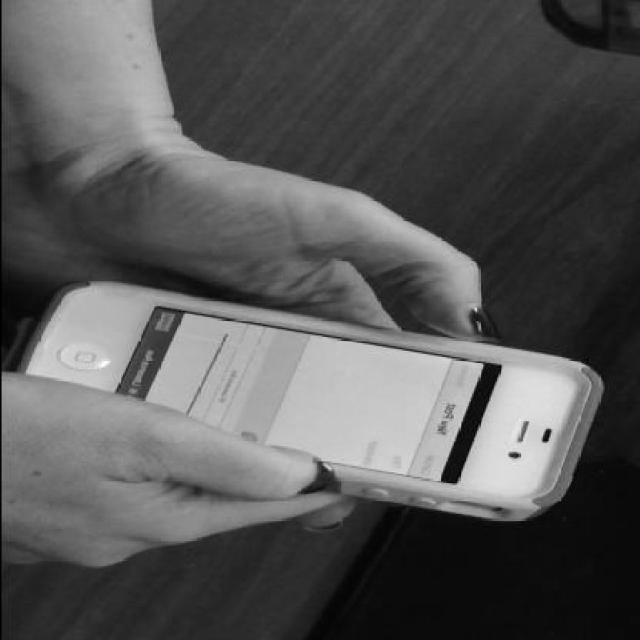fake: (10, 276, 602, 522)
